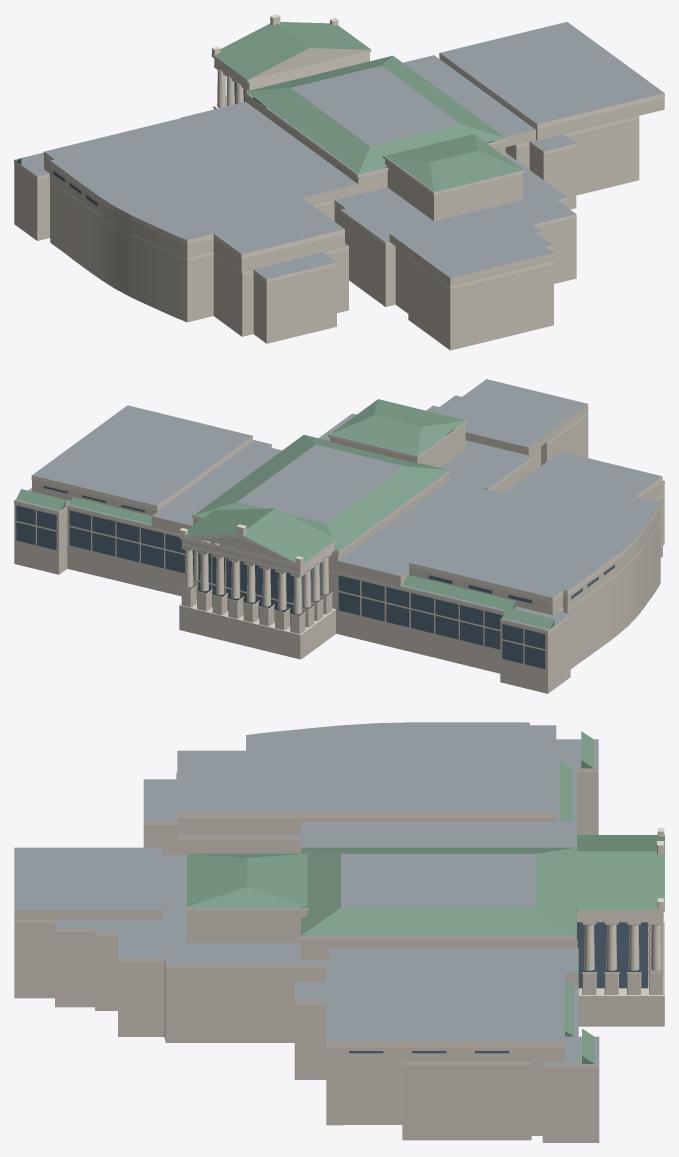
Rendered from ral-martin-marietta-center.glb.
3 renders of one model, top to bottom at view 1: azimuth 30°, elevation 25°; view 2: azimuth 150°, elevation 25°; view 3: azimuth 270°, elevation 25°, orthographic. The views are drawn at different scales.
Parts seen in each view (by area): view 1: Martin Marietta Center for the Performing Arts; view 2: Martin Marietta Center for the Performing Arts; view 3: Martin Marietta Center for the Performing Arts.
Boxes of the visible parts, <box> form: Martin Marietta Center for the Performing Arts: <box>14,14,664,350</box>; Martin Marietta Center for the Performing Arts: <box>14,379,664,693</box>; Martin Marietta Center for the Performing Arts: <box>14,722,664,1142</box>.
Size of the model in its own units: 134 by 28.2 by 114.
